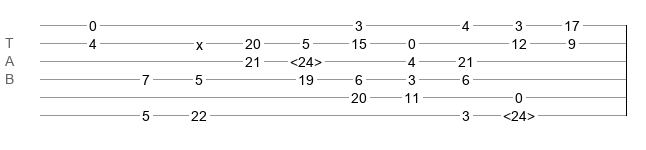0: (89, 18, 97, 28), (408, 36, 416, 46), (515, 90, 523, 100)
11: (404, 90, 420, 100)
12: (511, 36, 527, 46)
15: (351, 36, 367, 46)
17: (564, 18, 580, 28)
19: (298, 72, 314, 82)
20: (245, 36, 261, 46), (351, 90, 367, 100)
21: (245, 54, 261, 64), (458, 54, 474, 64)
22: (191, 108, 207, 118)
3: (355, 18, 363, 28), (408, 72, 416, 82), (462, 108, 470, 118), (515, 18, 523, 28)
4: (89, 36, 97, 46), (408, 54, 416, 64), (462, 18, 470, 28)
5: (142, 108, 150, 118), (195, 72, 203, 82), (302, 36, 310, 46)
6: (355, 72, 363, 82), (462, 72, 470, 82)
7: (142, 72, 150, 82)
9: (568, 36, 576, 46)
harmonic: (290, 54, 322, 64), (503, 108, 535, 118)
x: (196, 37, 203, 45)
